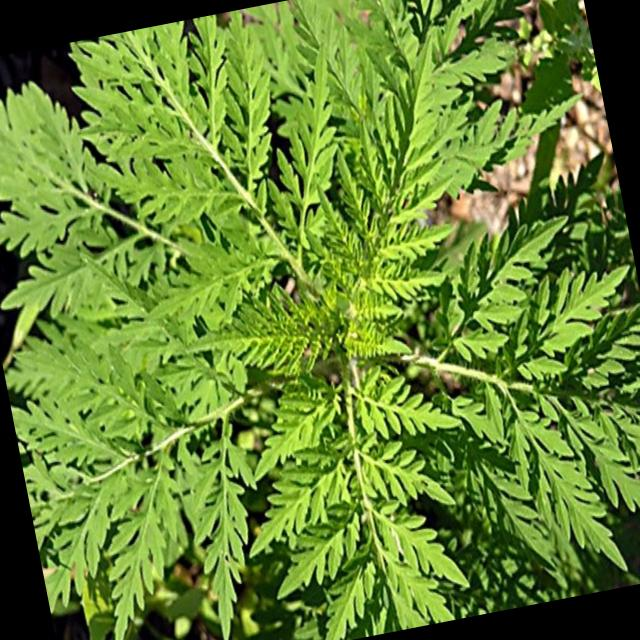ambrosia: (0, 307, 282, 640), (81, 9, 351, 328), (257, 317, 463, 640), (447, 203, 640, 537)
